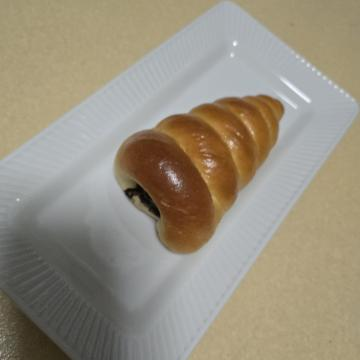cream horn: (75, 64, 277, 262)
